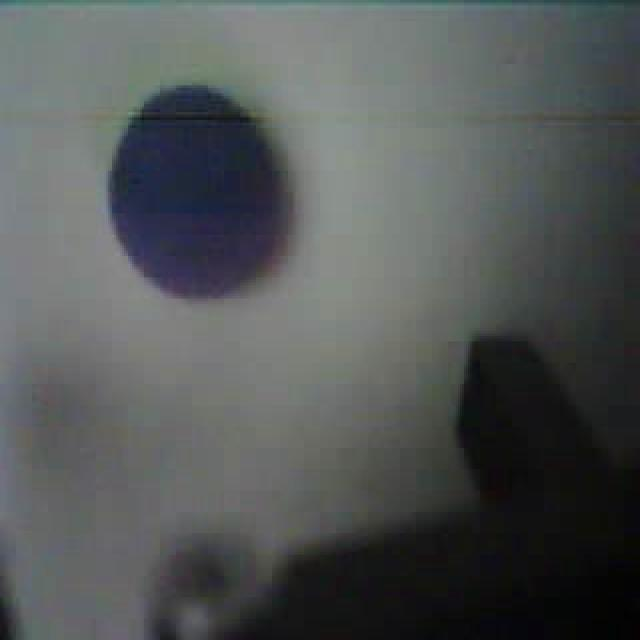blue_ball: (104, 77, 296, 304)
